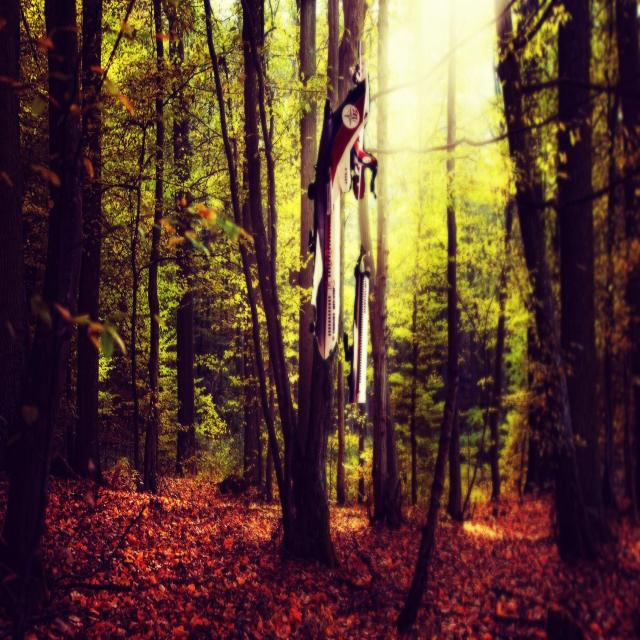airplane: (306, 39, 378, 407)
